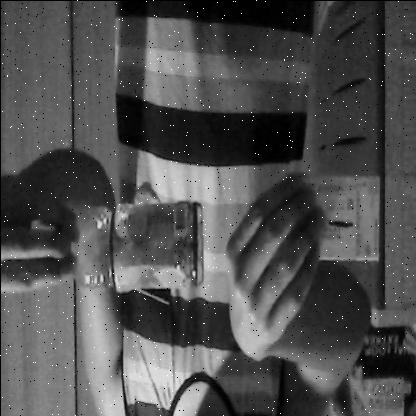Plastic Bottle: (33, 185, 207, 302)
